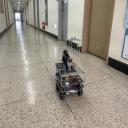cart: (54, 62, 86, 100)
